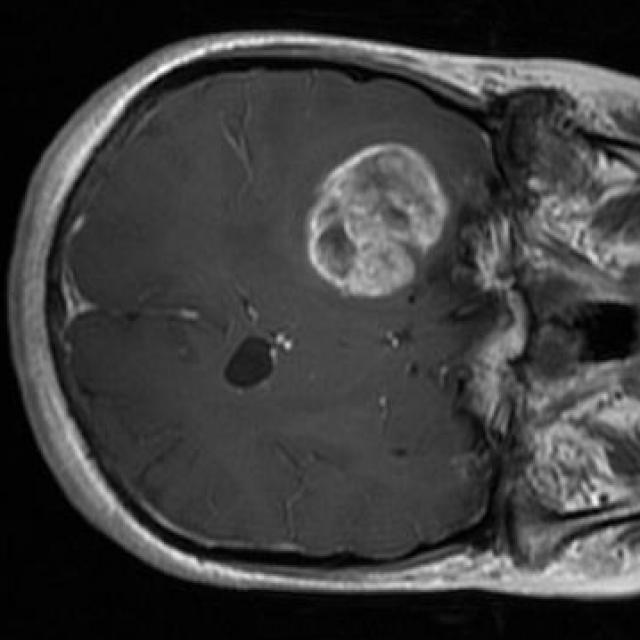glioma: (307, 146, 449, 299)
